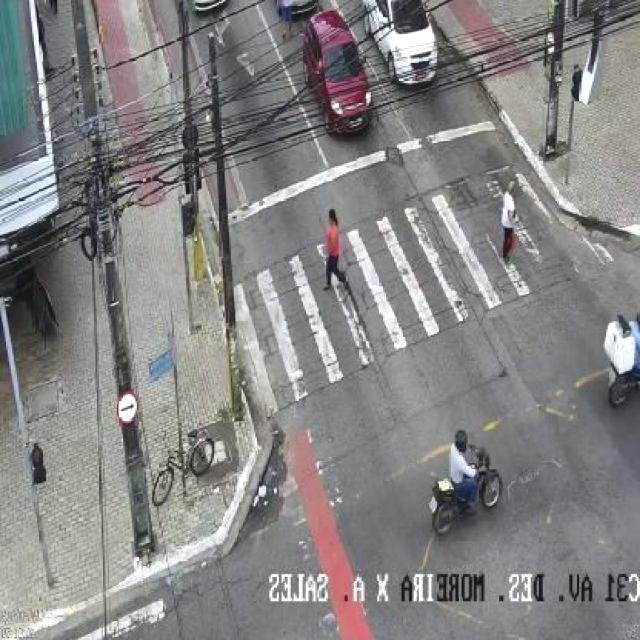Car: (302, 8, 374, 138), (363, 0, 442, 85)
Cycle: (429, 446, 507, 536), (150, 428, 218, 506), (603, 314, 640, 408)
